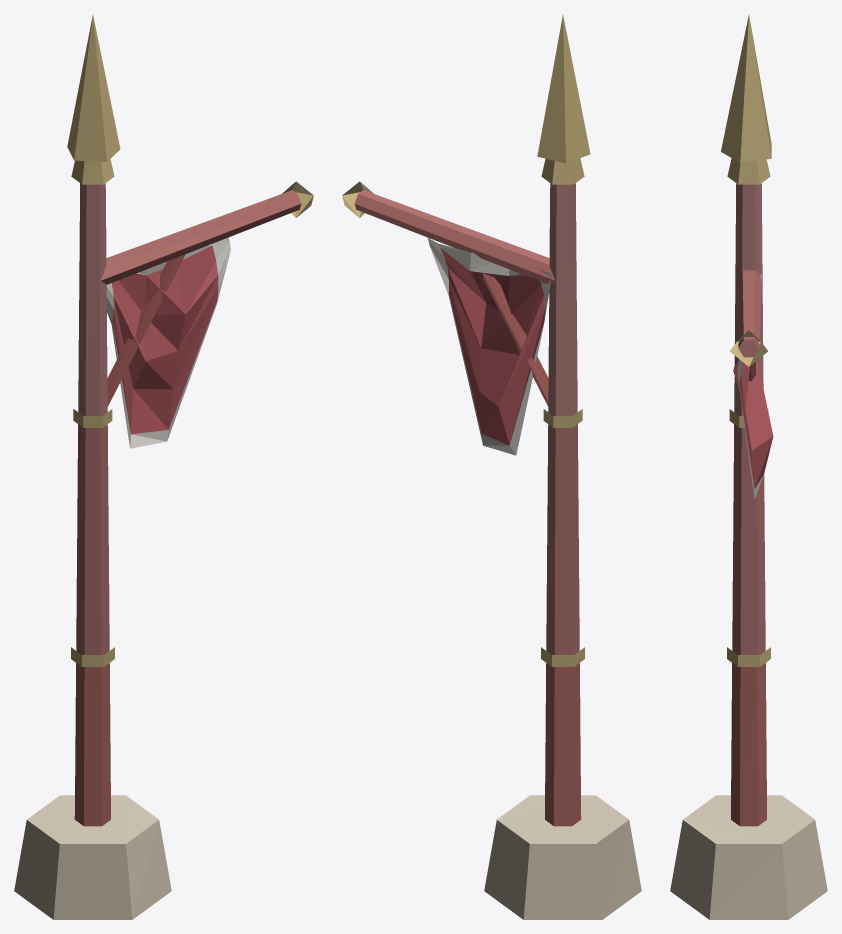
File: flag.pennant.lingqi__pole.ground.miaogan__armHang.glb
3 views of the same model, side by side, from view 1: azimuth 30°, elevation 25°; view 2: azimuth 150°, elevation 25°; view 3: azimuth 270°, elevation 25° (orthographic).
Parts seen in each view (by area): view 1: flag.pennant.lingqi; view 2: flag.pennant.lingqi; view 3: flag.pennant.lingqi.
Boxes of the visible parts, left/top/right/bottom form: flag.pennant.lingqi: left=14, top=15, right=313, bottom=919; flag.pennant.lingqi: left=342, top=15, right=641, bottom=919; flag.pennant.lingqi: left=670, top=15, right=827, bottom=919.
Size of the model in its own units: 1.72 by 5.16 by 0.84.
